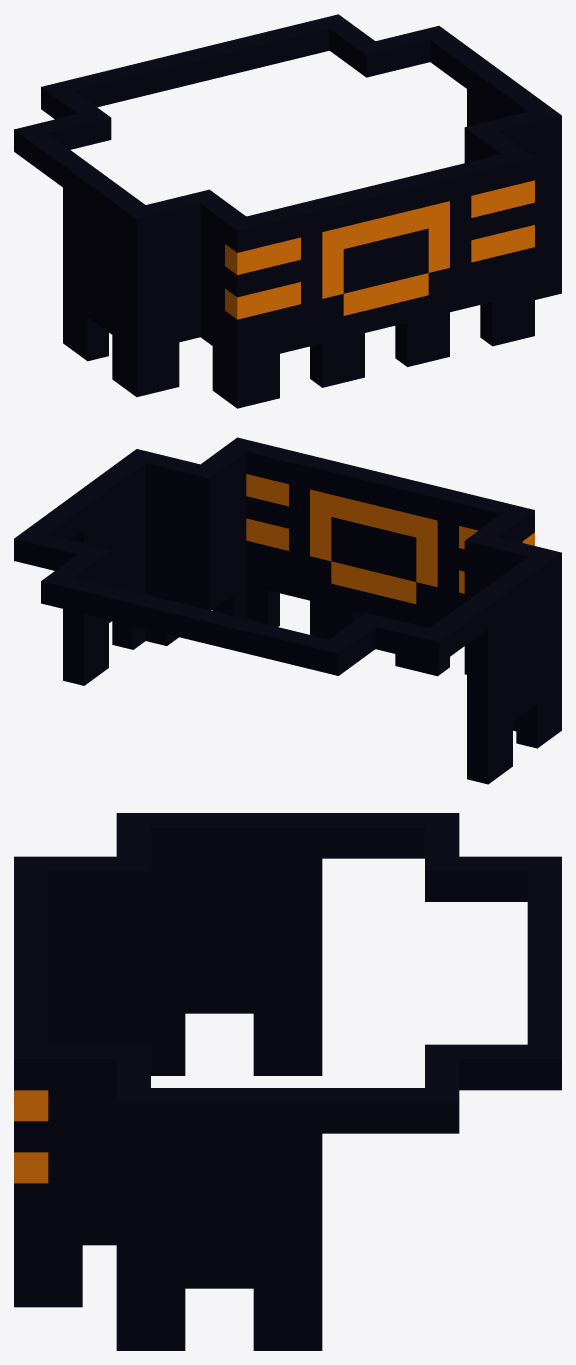
3 renders of one model, top to bottom at view 1: azimuth 30°, elevation 25°; view 2: azimuth 150°, elevation 25°; view 3: azimuth 270°, elevation 25°, orthographic. The views are drawn at different scales.
Parts seen in each view (by area): view 1: 81; view 2: 81; view 3: 81.
Part boxes in pixels (x1,y1,x2,y2): 81: (14, 14, 561, 408); 81: (14, 437, 561, 784); 81: (14, 813, 561, 1350).
Size of the model in its own units: 0.7874 by 0.315 by 0.6299.
1 material, 1 textured.
